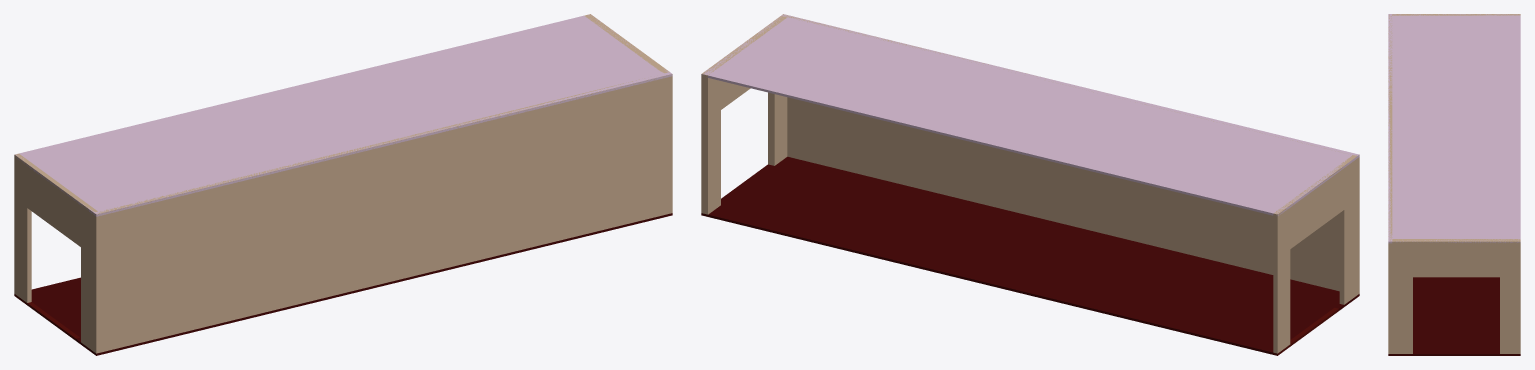
The model's file is Hall00.gltf.
The picture shows the model from 3 angles, left to right: view 1: azimuth 30°, elevation 25°; view 2: azimuth 150°, elevation 25°; view 3: azimuth 270°, elevation 25°; orthographic projection. The views are drawn at different scales.
Visible parts, largest first — view 1: wall2-north, roof, wall3-back, floor, Wall4-front; view 2: roof, floor, wall2-north, wall3-back, Wall4-front; view 3: roof, Wall4-front, floor, wall2-north, wall3-back.
Part boxes in pixels (x1,y1,x2,y2): wall2-north: (93, 74, 672, 353); roof: (14, 15, 672, 216); wall3-back: (14, 153, 97, 351); floor: (14, 213, 672, 355); Wall4-front: (584, 14, 669, 73); roof: (701, 14, 1359, 216); floor: (701, 156, 1359, 355); wall2-north: (782, 14, 1359, 295); wall3-back: (1273, 155, 1356, 353); Wall4-front: (701, 16, 787, 214); roof: (1388, 14, 1520, 243); Wall4-front: (1392, 239, 1520, 353); floor: (1388, 277, 1520, 355); wall2-north: (1388, 14, 1392, 353); wall3-back: (1392, 14, 1520, 15).
Bounding box in the file's own units: 260 × 61 × 64.
